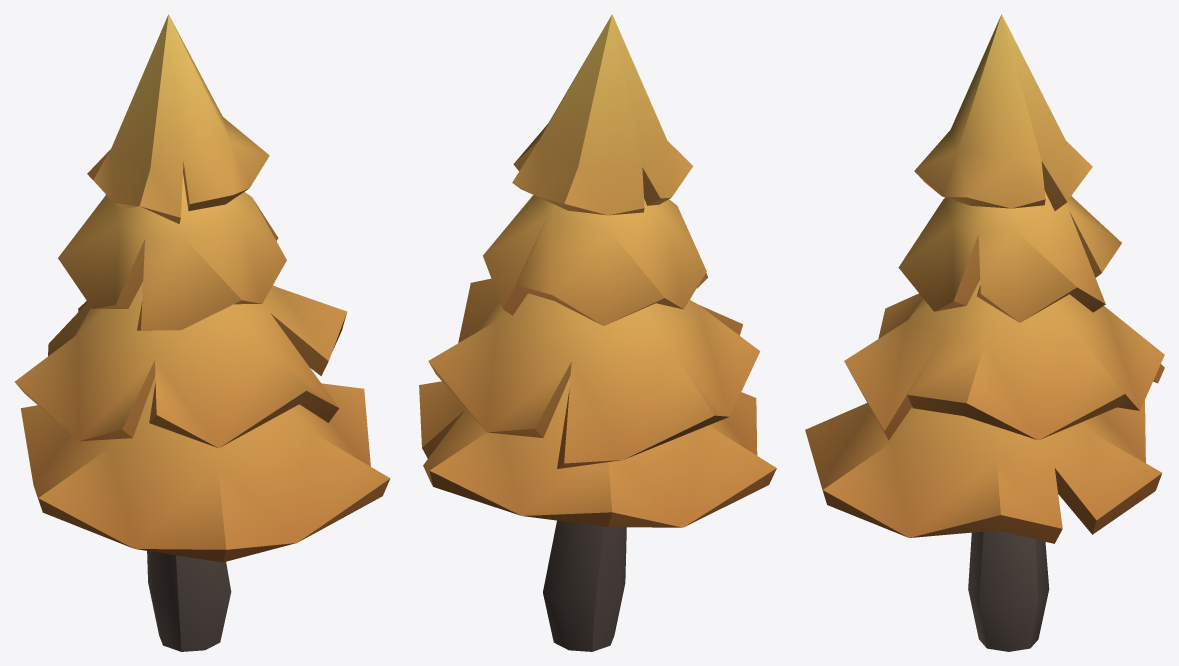
Rendered from Tree Pine Yellow Medium.glb.
The picture shows the model from 3 angles, left to right: view 1: azimuth 30°, elevation 25°; view 2: azimuth 150°, elevation 25°; view 3: azimuth 270°, elevation 25°; orthographic projection. The views are drawn at different scales.
Parts seen in each view (by area): view 1: tree_pine_yellow_medium; view 2: tree_pine_yellow_medium; view 3: tree_pine_yellow_medium.
Part boxes in pixels (x1,y1,x2,y2): tree_pine_yellow_medium: (14, 14, 390, 651); tree_pine_yellow_medium: (419, 14, 776, 651); tree_pine_yellow_medium: (805, 14, 1164, 651).
Bounding box in the file's own units: 3.33 × 5.87 × 3.12.
Materials: 1 (1 with a texture image).
